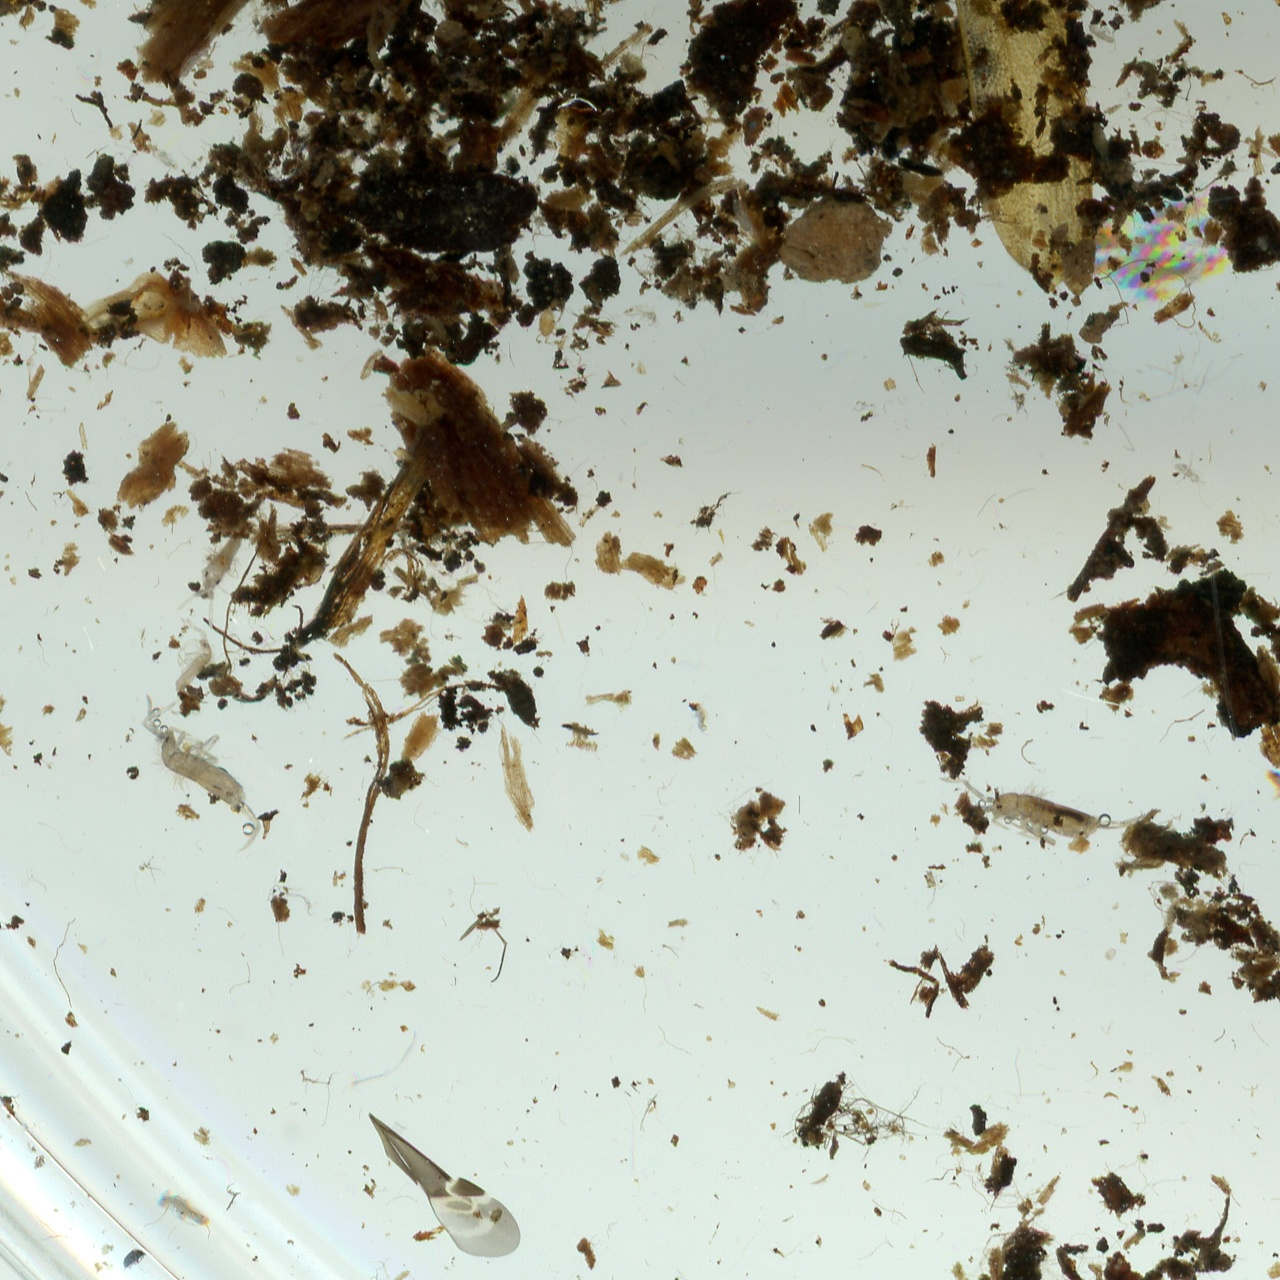arthropod: (103, 686, 295, 857), (939, 776, 1150, 853), (173, 531, 260, 634), (156, 620, 227, 703), (145, 1183, 227, 1245), (1247, 745, 1280, 842), (166, 35, 218, 96), (1171, 240, 1219, 302), (142, 137, 188, 181), (1169, 449, 1211, 490), (730, 185, 760, 244), (1088, 5, 1118, 56), (532, 302, 566, 348), (115, 1241, 150, 1274), (622, 304, 663, 332), (688, 697, 713, 740), (431, 0, 442, 11)
